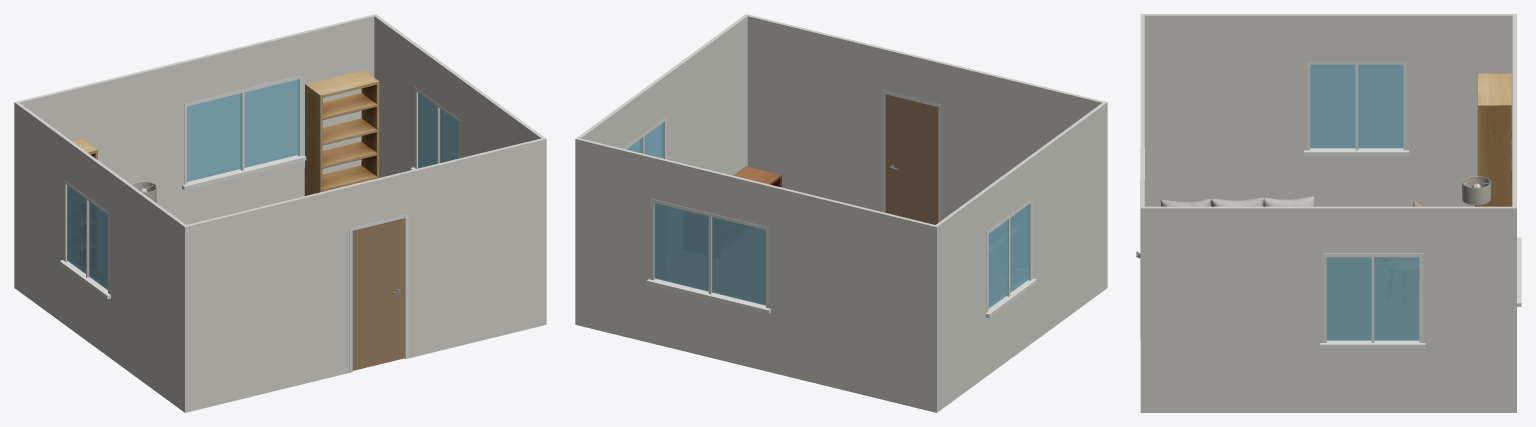
The model's file is scenesmith.glb.
The picture shows the model from 3 angles, left to right: view 1: azimuth 30°, elevation 25°; view 2: azimuth 150°, elevation 25°; view 3: azimuth 270°, elevation 25°; orthographic projection. The views are drawn at different scales.
Visible parts, largest first — view 1: scene_010_living_room_south_wall, scene_010_living_room_west_wall, scene_010_living_room_north_wall, scene_010_living_room_east_wall, scene_010_living_room_north_wall Window 0 | glazing, furniture_group, scene_010_living_room_south_wall Door 0 | wood leaf, scene_010_living_room_west_wall Window 0 | glazing, scene_010_living_room_north_wall Window 0 | jamb, scene_010_living_room_east_wall Window 0 | glazing, scene_010_living_room_south_wall Door 0 | jamb, scene_010_living_room_west_wall Window 0 | jamb (+1 smaller); view 2: scene_010_living_room_north_wall, scene_010_living_room_south_wall, scene_010_living_room_west_wall, scene_010_living_room_east_wall, scene_010_living_room_north_wall Window 0 | glazing, scene_010_living_room_south_wall Door 0 | wood leaf, scene_010_living_room_west_wall Window 0 | glazing, scene_010_living_room_north_wall Window 0 | jamb, scene_010_living_room_west_wall Window 0 | jamb, scene_010_living_room_south_wall Door 0 | jamb, scene_010_living_room_east_wall Window 0 | glazing, furniture_group; view 3: scene_010_living_room_east_wall, scene_010_living_room_west_wall, scene_010_living_room_west_wall Window 0 | glazing, scene_010_living_room_east_wall Window 0 | glazing, furniture_group, scene_010_living_room_east_wall Window 0 | jamb, scene_010_living_room_west_wall Window 0 | jamb, scene_010_living_room_south_wall, scene_010_living_room_north_wall.
Boxes of the visible parts, x1,y1,x2,y2 form: scene_010_living_room_south_wall: (183, 137, 545, 412); scene_010_living_room_west_wall: (16, 103, 188, 412); scene_010_living_room_north_wall: (14, 14, 376, 288); scene_010_living_room_east_wall: (373, 14, 546, 325); scene_010_living_room_north_wall Window 0 | glazing: (187, 79, 298, 181); furniture_group: (72, 70, 379, 202); scene_010_living_room_south_wall Door 0 | wood leaf: (352, 218, 405, 370); scene_010_living_room_west_wall Window 0 | glazing: (67, 185, 107, 289); scene_010_living_room_north_wall Window 0 | jamb: (182, 75, 306, 189); scene_010_living_room_east_wall Window 0 | glazing: (418, 93, 458, 168); scene_010_living_room_south_wall Door 0 | jamb: (349, 214, 408, 372); scene_010_living_room_west_wall Window 0 | jamb: (59, 180, 110, 299); scene_010_living_room_north_wall: (576, 137, 938, 412); scene_010_living_room_south_wall: (744, 14, 1107, 288); scene_010_living_room_west_wall: (933, 103, 1105, 412); scene_010_living_room_east_wall: (575, 15, 747, 325); scene_010_living_room_north_wall Window 0 | glazing: (654, 203, 765, 305); scene_010_living_room_south_wall Door 0 | wood leaf: (885, 94, 938, 224); scene_010_living_room_west_wall Window 0 | glazing: (988, 204, 1029, 308); scene_010_living_room_north_wall Window 0 | jamb: (646, 199, 770, 313); scene_010_living_room_west_wall Window 0 | jamb: (985, 198, 1036, 317); scene_010_living_room_south_wall Door 0 | jamb: (882, 90, 941, 222); scene_010_living_room_east_wall Window 0 | glazing: (626, 122, 663, 158); furniture_group: (733, 166, 781, 187); scene_010_living_room_east_wall: (1144, 206, 1516, 412); scene_010_living_room_west_wall: (1144, 14, 1512, 206); scene_010_living_room_west_wall Window 0 | glazing: (1310, 64, 1403, 148); scene_010_living_room_east_wall Window 0 | glazing: (1326, 257, 1419, 340); furniture_group: (1160, 73, 1511, 206); scene_010_living_room_east_wall Window 0 | jamb: (1320, 253, 1425, 348); scene_010_living_room_west_wall Window 0 | jamb: (1304, 61, 1409, 155); scene_010_living_room_south_wall: (1140, 14, 1144, 412); scene_010_living_room_north_wall: (1512, 14, 1516, 412).
Bounding box in the file's own units: 5.61 × 2.71 × 4.6.
Materials: 14 (8 with a texture image).
